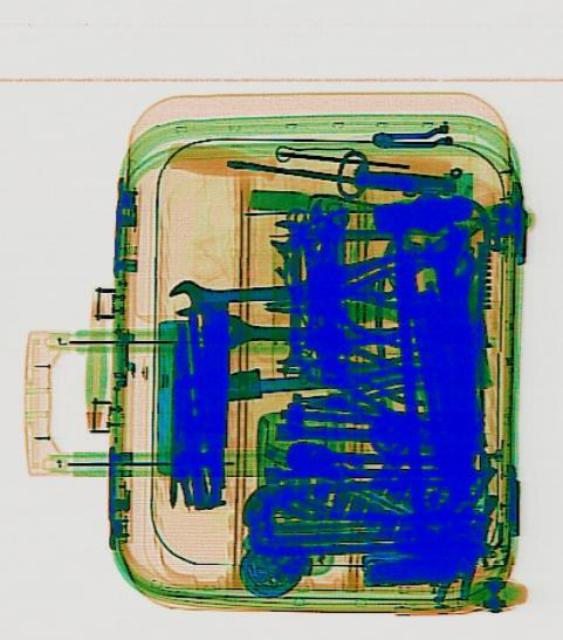Wrench: (166, 270, 303, 314), (268, 214, 393, 252)
